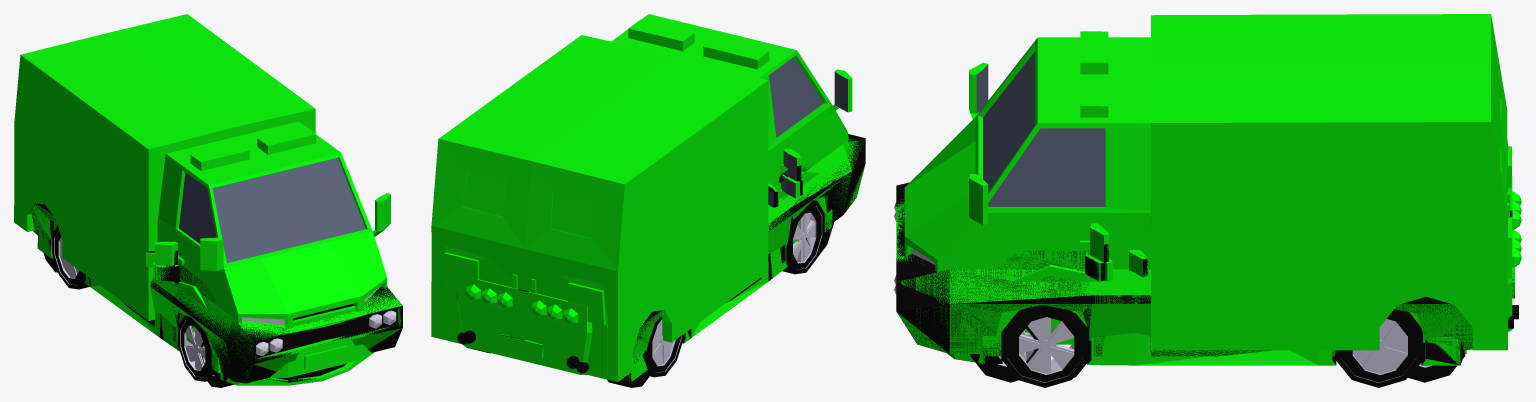
File: TrafficCars.fbx
3 views of the same model, side by side, from view 1: azimuth 30°, elevation 25°; view 2: azimuth 150°, elevation 25°; view 3: azimuth 270°, elevation 25° (orthographic). The views are drawn at different scales.
Visible parts, largest first — view 1: dummy_cars7, dummy_cars8, dummy_cars3, dummy_cars10, dummy_cars, dummy_cars1, dummy_cars14, dummy_cars5, dummy_cars12, dummy_cars2; view 2: dummy_cars7, dummy_cars10, dummy_cars8, dummy_cars5, dummy_cars3, dummy_cars1, dummy_cars, dummy_cars11, dummy_cars14, dummy_cars2, dummy_cars12, dummy_cars6; view 3: dummy_cars7, dummy_cars10, dummy_cars8, dummy_cars3, dummy_cars14, dummy_cars1, dummy_cars, dummy_cars12, dummy_cars2, dummy_cars11, dummy_cars6, dummy_cars4.
Part boxes in pixels (left/top/right/bottom): dummy_cars7: left=14, top=14, right=390, bottom=387; dummy_cars8: left=157, top=121, right=390, bottom=387; dummy_cars3: left=32, top=203, right=402, bottom=383; dummy_cars10: left=31, top=203, right=402, bottom=382; dummy_cars: left=37, top=223, right=373, bottom=385; dummy_cars1: left=37, top=226, right=346, bottom=385; dummy_cars14: left=41, top=222, right=220, bottom=373; dummy_cars5: left=254, top=295, right=402, bottom=371; dummy_cars12: left=43, top=233, right=221, bottom=366; dummy_cars2: left=41, top=229, right=215, bottom=377; dummy_cars7: left=431, top=19, right=852, bottom=387; dummy_cars10: left=456, top=138, right=864, bottom=374; dummy_cars8: left=441, top=14, right=852, bottom=387; dummy_cars5: left=458, top=275, right=586, bottom=374; dummy_cars3: left=465, top=134, right=865, bottom=371; dummy_cars1: left=622, top=186, right=829, bottom=381; dummy_cars: left=627, top=183, right=830, bottom=381; dummy_cars11: left=646, top=174, right=817, bottom=376; dummy_cars14: left=634, top=177, right=832, bottom=370; dummy_cars2: left=634, top=158, right=832, bottom=371; dummy_cars12: left=634, top=148, right=832, bottom=362; dummy_cars6: left=650, top=180, right=819, bottom=371; dummy_cars7: left=904, top=14, right=1513, bottom=382; dummy_cars10: left=896, top=191, right=1521, bottom=382; dummy_cars8: left=935, top=37, right=1511, bottom=344; dummy_cars3: left=894, top=182, right=1518, bottom=381; dummy_cars14: left=982, top=237, right=1452, bottom=382; dummy_cars1: left=983, top=252, right=1464, bottom=387; dummy_cars: left=947, top=250, right=1460, bottom=382; dummy_cars12: left=982, top=223, right=1452, bottom=347; dummy_cars2: left=982, top=243, right=1452, bottom=381; dummy_cars11: left=1001, top=259, right=1466, bottom=377; dummy_cars6: left=1006, top=251, right=1415, bottom=381; dummy_cars4: left=982, top=255, right=1459, bottom=378.
Size of the model in its own units: 281 by 288 by 606.
